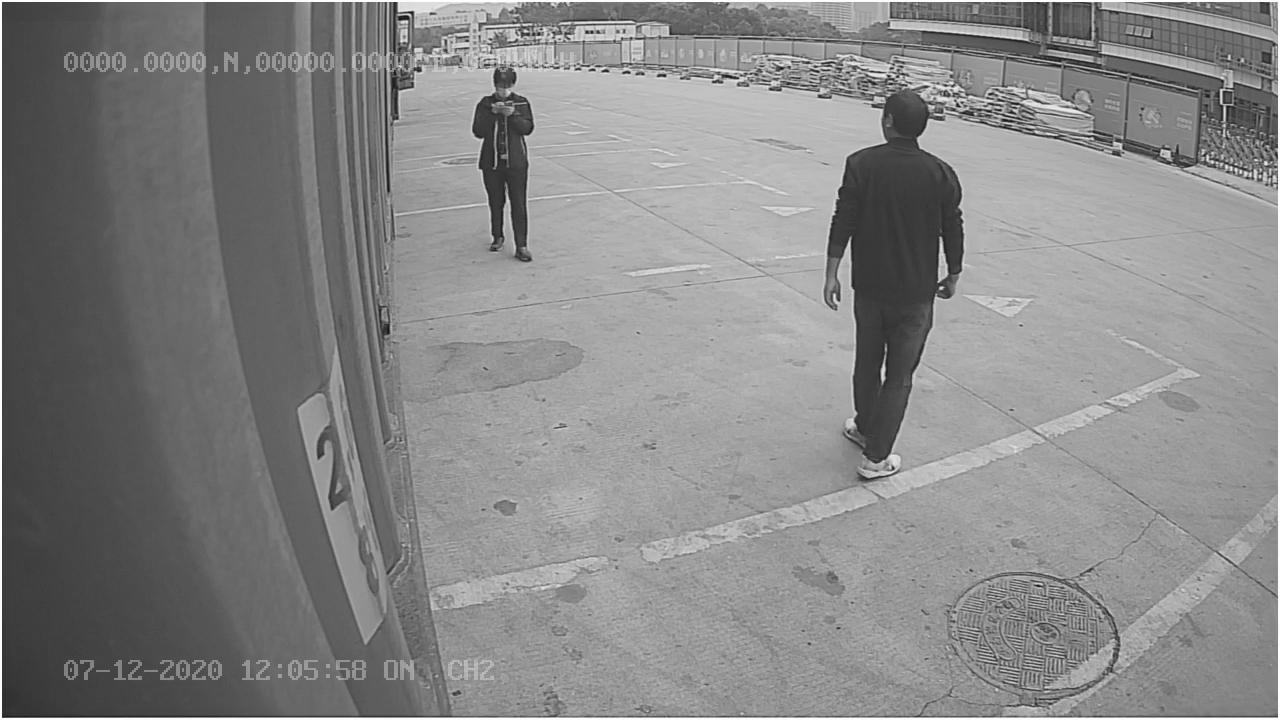person: (821, 84, 967, 484)
